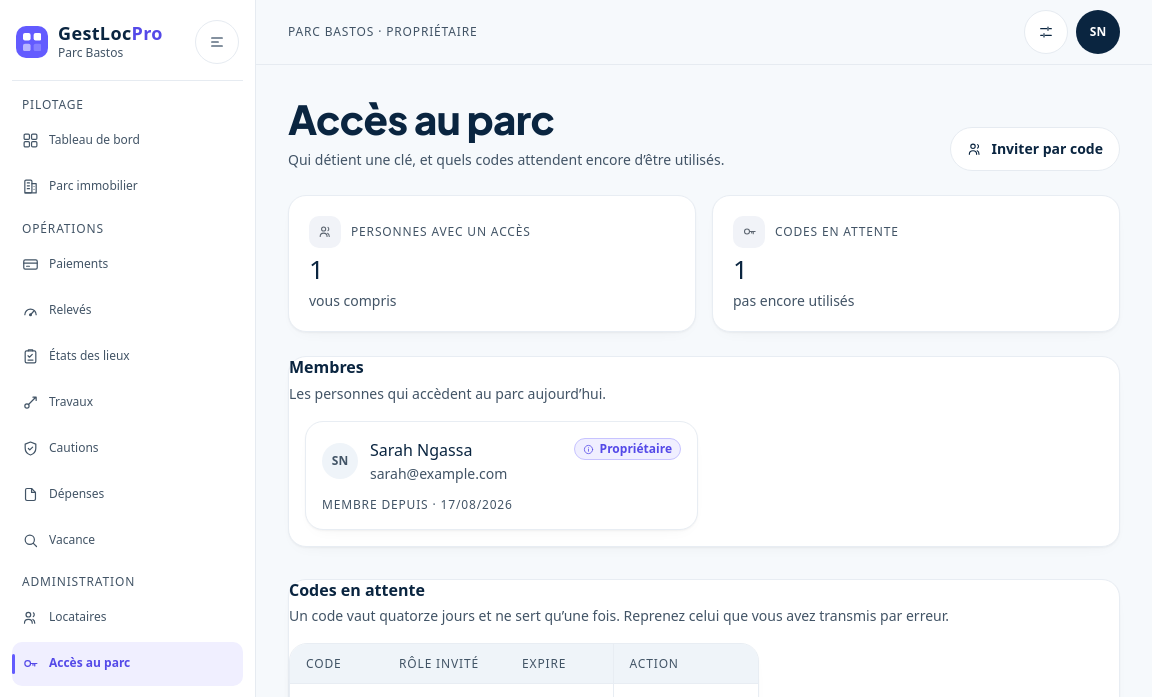
Test: un seul code vivant par logement › dit lesquels ont été retirés, et où reprendre leur code
What coordinates should you click on to do the following:
click the button "Inviter par code"
I would click on:
 (1035, 149)
Its box is [950, 127, 1120, 171].
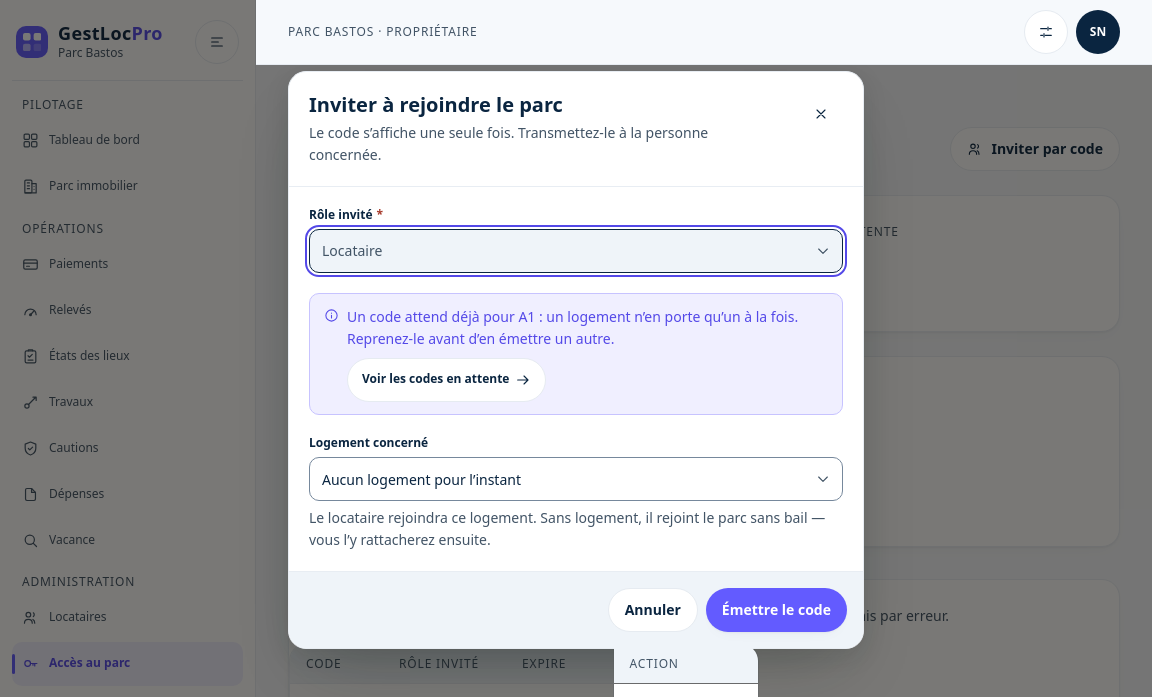
Expected: the dialog is shown, [288, 71, 864, 649]
Expected: the text "A1" is shown, [347, 307, 798, 348]
